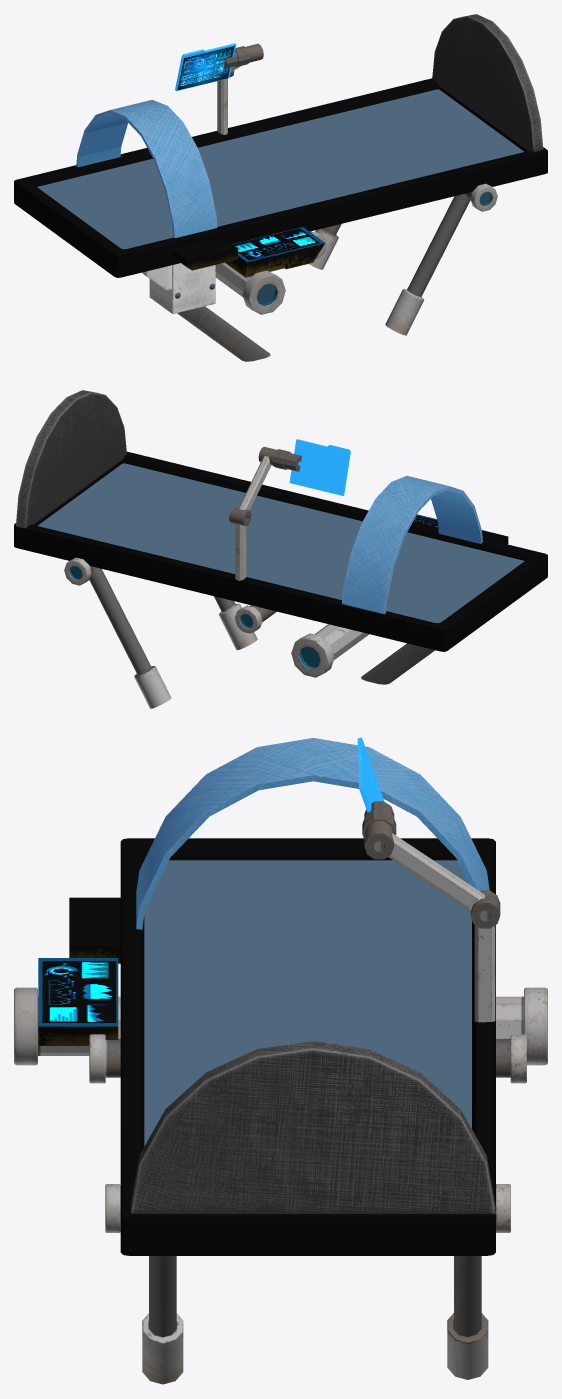
Rendered from camaV4_Blender.fbx.
The picture shows the model from 3 angles, top to bottom: view 1: azimuth 30°, elevation 25°; view 2: azimuth 150°, elevation 25°; view 3: azimuth 270°, elevation 25°; orthographic projection. The views are drawn at different scales.
Visible parts, largest first — view 1: Cama_Hospital_V2_UV:Cama_salamedica_V2; view 2: Cama_Hospital_V2_UV:Cama_salamedica_V2; view 3: Cama_Hospital_V2_UV:Cama_salamedica_V2.
Part boxes in pixels (box(x1,y1,x2,y2)): Cama_Hospital_V2_UV:Cama_salamedica_V2: box(14, 14, 547, 361); Cama_Hospital_V2_UV:Cama_salamedica_V2: box(14, 390, 547, 708); Cama_Hospital_V2_UV:Cama_salamedica_V2: box(14, 737, 547, 1384).
Size of the model in its own units: 273 by 168 by 162.
4 materials, 4 textured.
